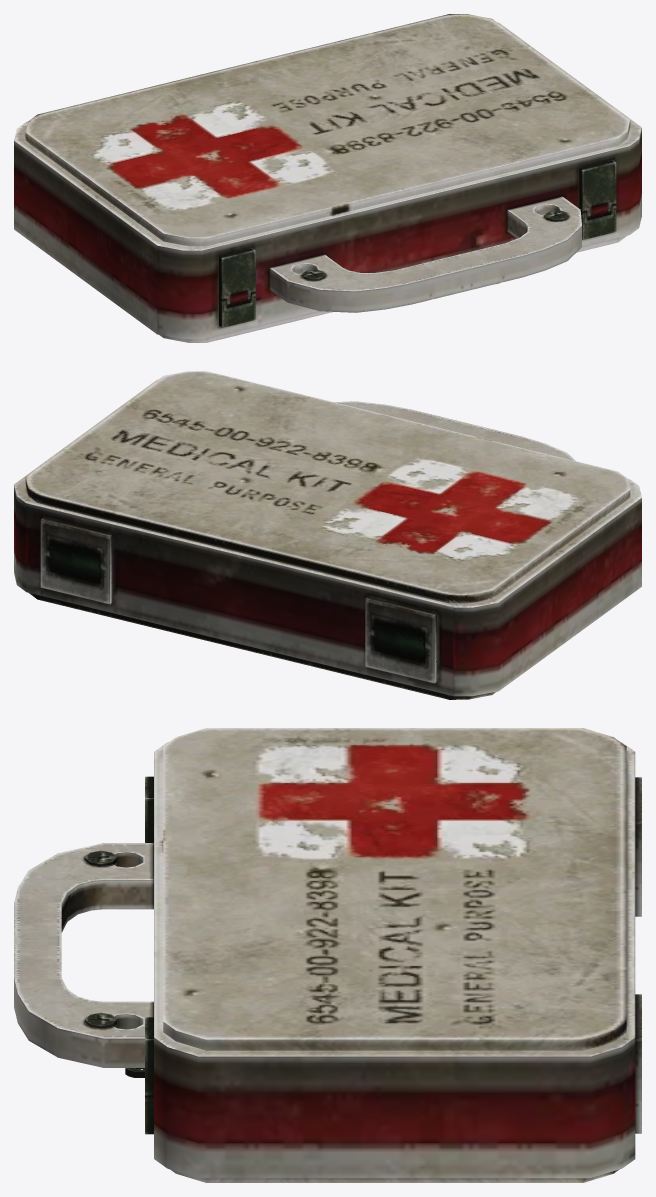
Rendered from Medical_Kit_NewYear2026.obj.
3 views of the same model, one above another, from view 1: azimuth 30°, elevation 25°; view 2: azimuth 150°, elevation 25°; view 3: azimuth 270°, elevation 25° (orthographic). The views are drawn at different scales.
Parts seen in each view (by area): view 1: Model_Medical_Kit_LOD0; view 2: Model_Medical_Kit_LOD0; view 3: Model_Medical_Kit_LOD0.
Boxes of the visible parts, box(x1,y1,x2,y2) form: Model_Medical_Kit_LOD0: box(14, 14, 641, 342); Model_Medical_Kit_LOD0: box(14, 371, 641, 699); Model_Medical_Kit_LOD0: box(14, 728, 641, 1182).
Size of the model in its own units: 0.2638 by 0.0544 by 0.2162.
Materials: 1 (1 with a texture image).
